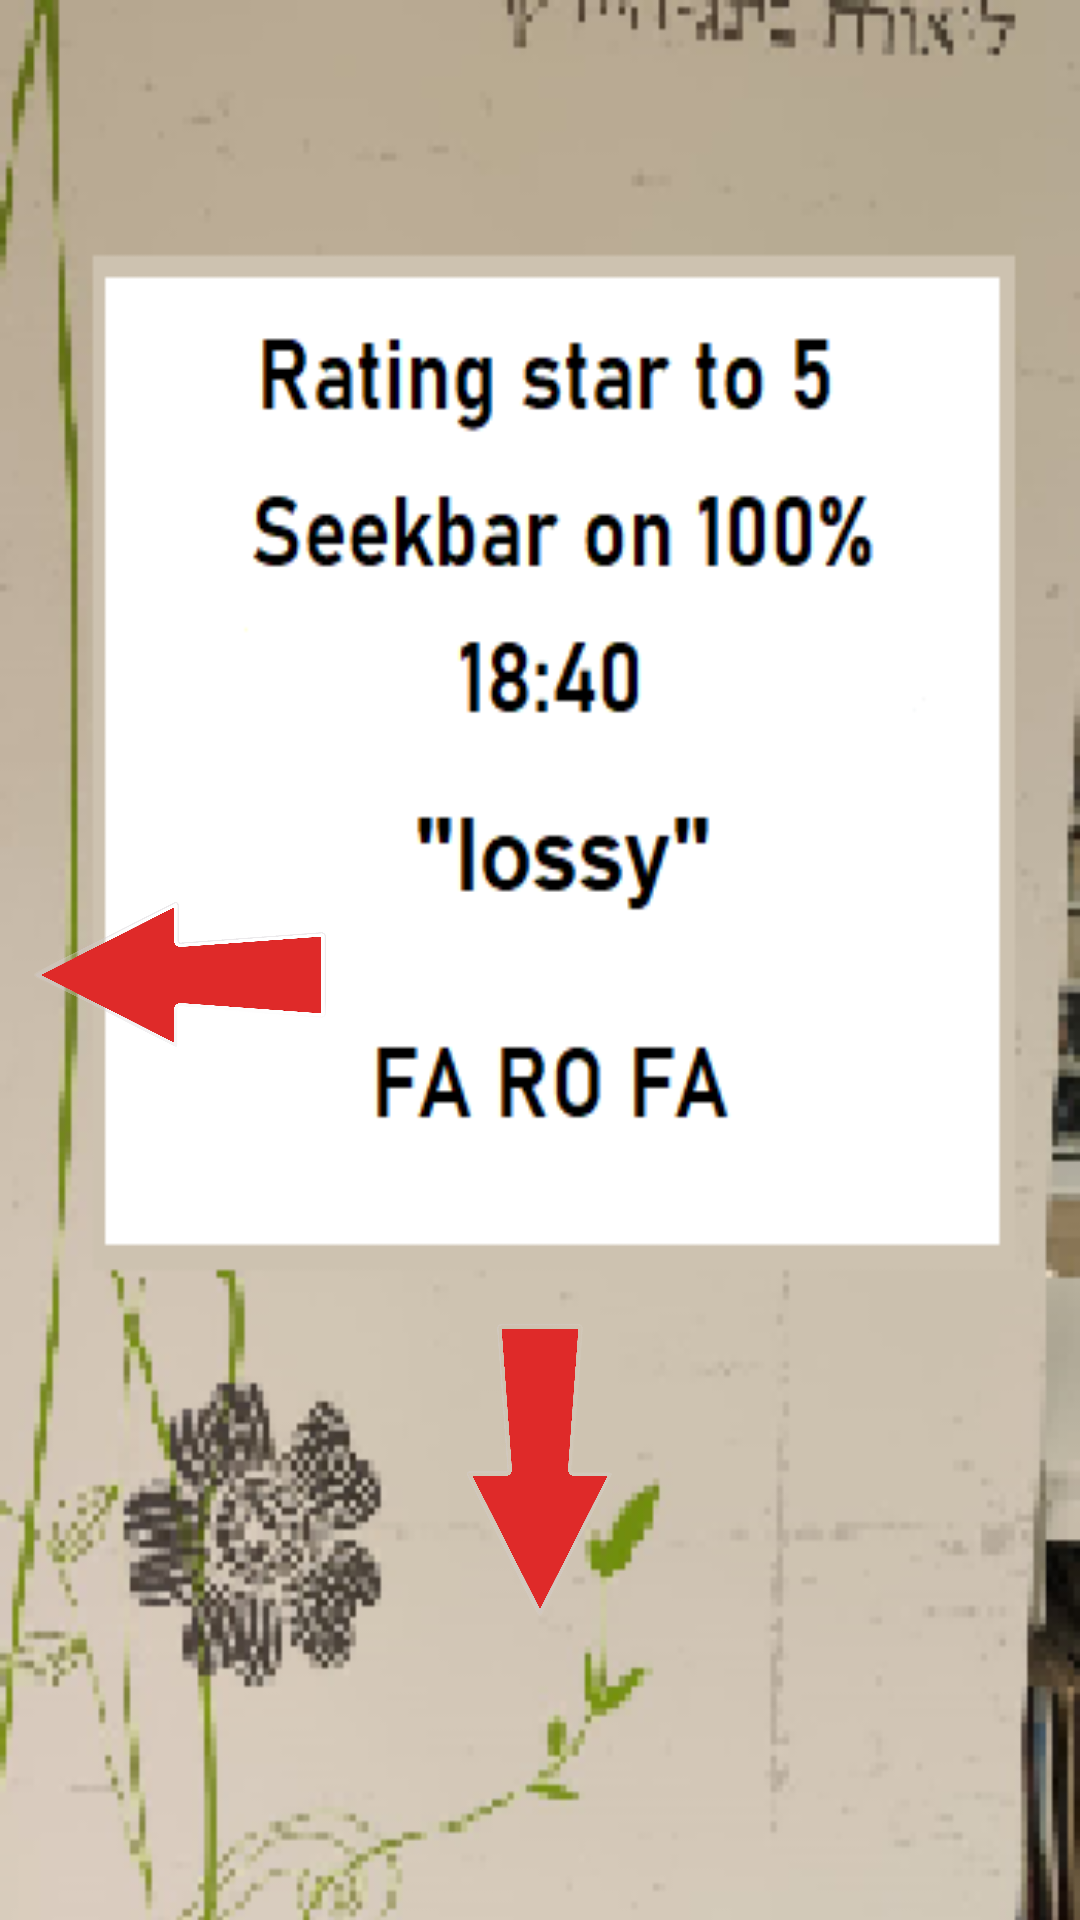

Point at icon controls on the screen. Image size 1080 × 1920, points as (x=x, y=y).
arrowdown: (x=540, y=1468)
arrowleft: (x=175, y=975)
